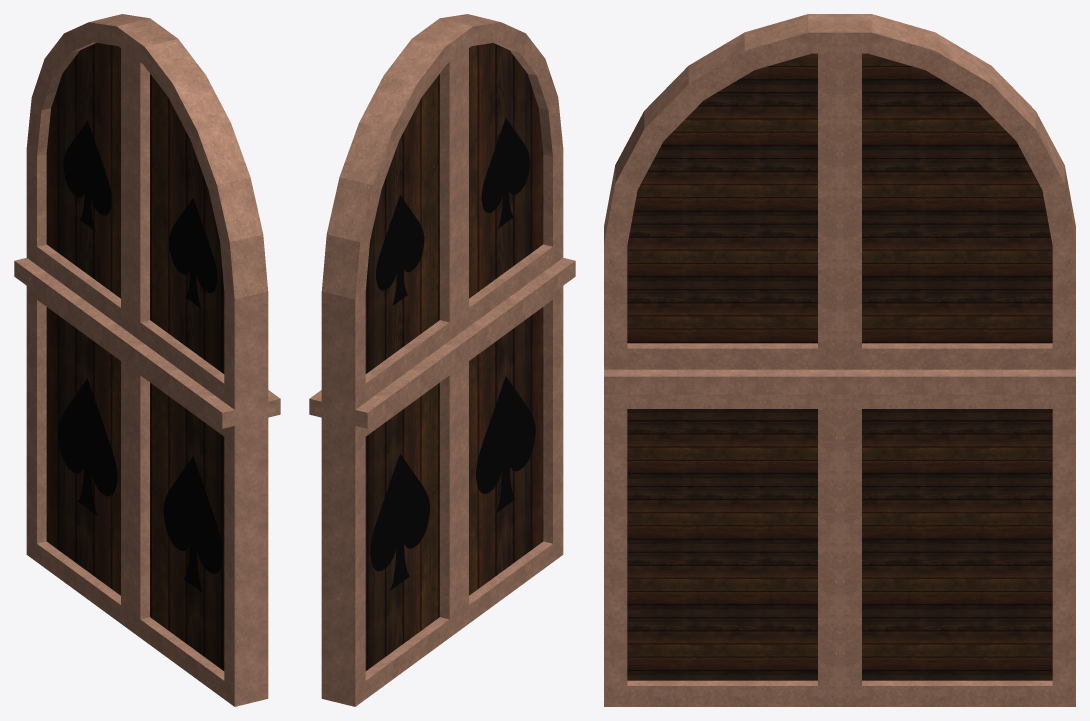
The model's file is PuertaAlicia.glb.
3 views of the same model, side by side, from view 1: azimuth 30°, elevation 25°; view 2: azimuth 150°, elevation 25°; view 3: azimuth 270°, elevation 25° (orthographic). The views are drawn at different scales.
Visible parts, largest first — view 1: PuertaFrontal.001, PuertaFrontal; view 2: PuertaFrontal, PuertaFrontal.001; view 3: PuertaFrontal, PuertaFrontal.001.
Boxes of the visible parts, box(x1,y1,x2,y2) form: PuertaFrontal.001: box(118, 28, 280, 706); PuertaFrontal: box(14, 14, 164, 630); PuertaFrontal: box(309, 28, 470, 706); PuertaFrontal.001: box(425, 14, 575, 630); PuertaFrontal: box(839, 14, 1075, 706); PuertaFrontal.001: box(604, 14, 840, 706).
Bounding box in the file's own units: 1.81 × 17.67 × 11.21.
Materials: 3 (2 with a texture image).
